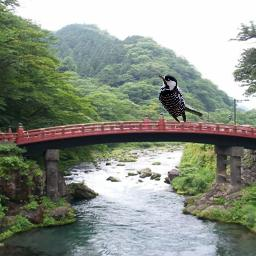Woodpecker: (156, 73, 203, 123)
